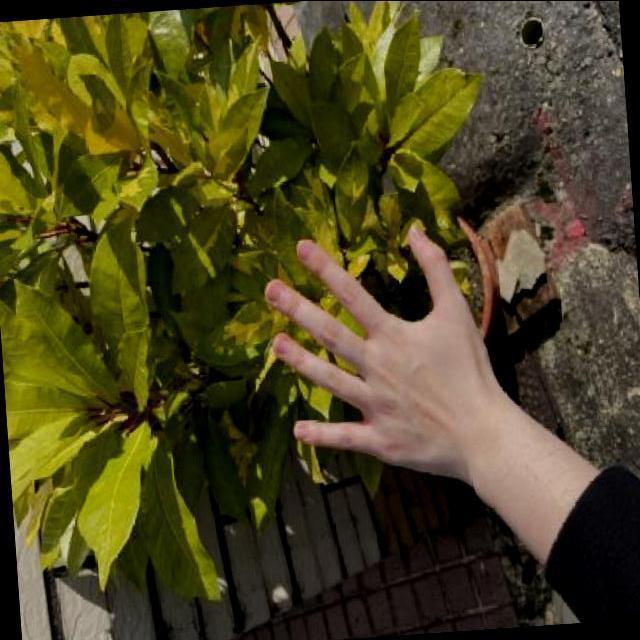hand: (253, 209, 504, 497)
